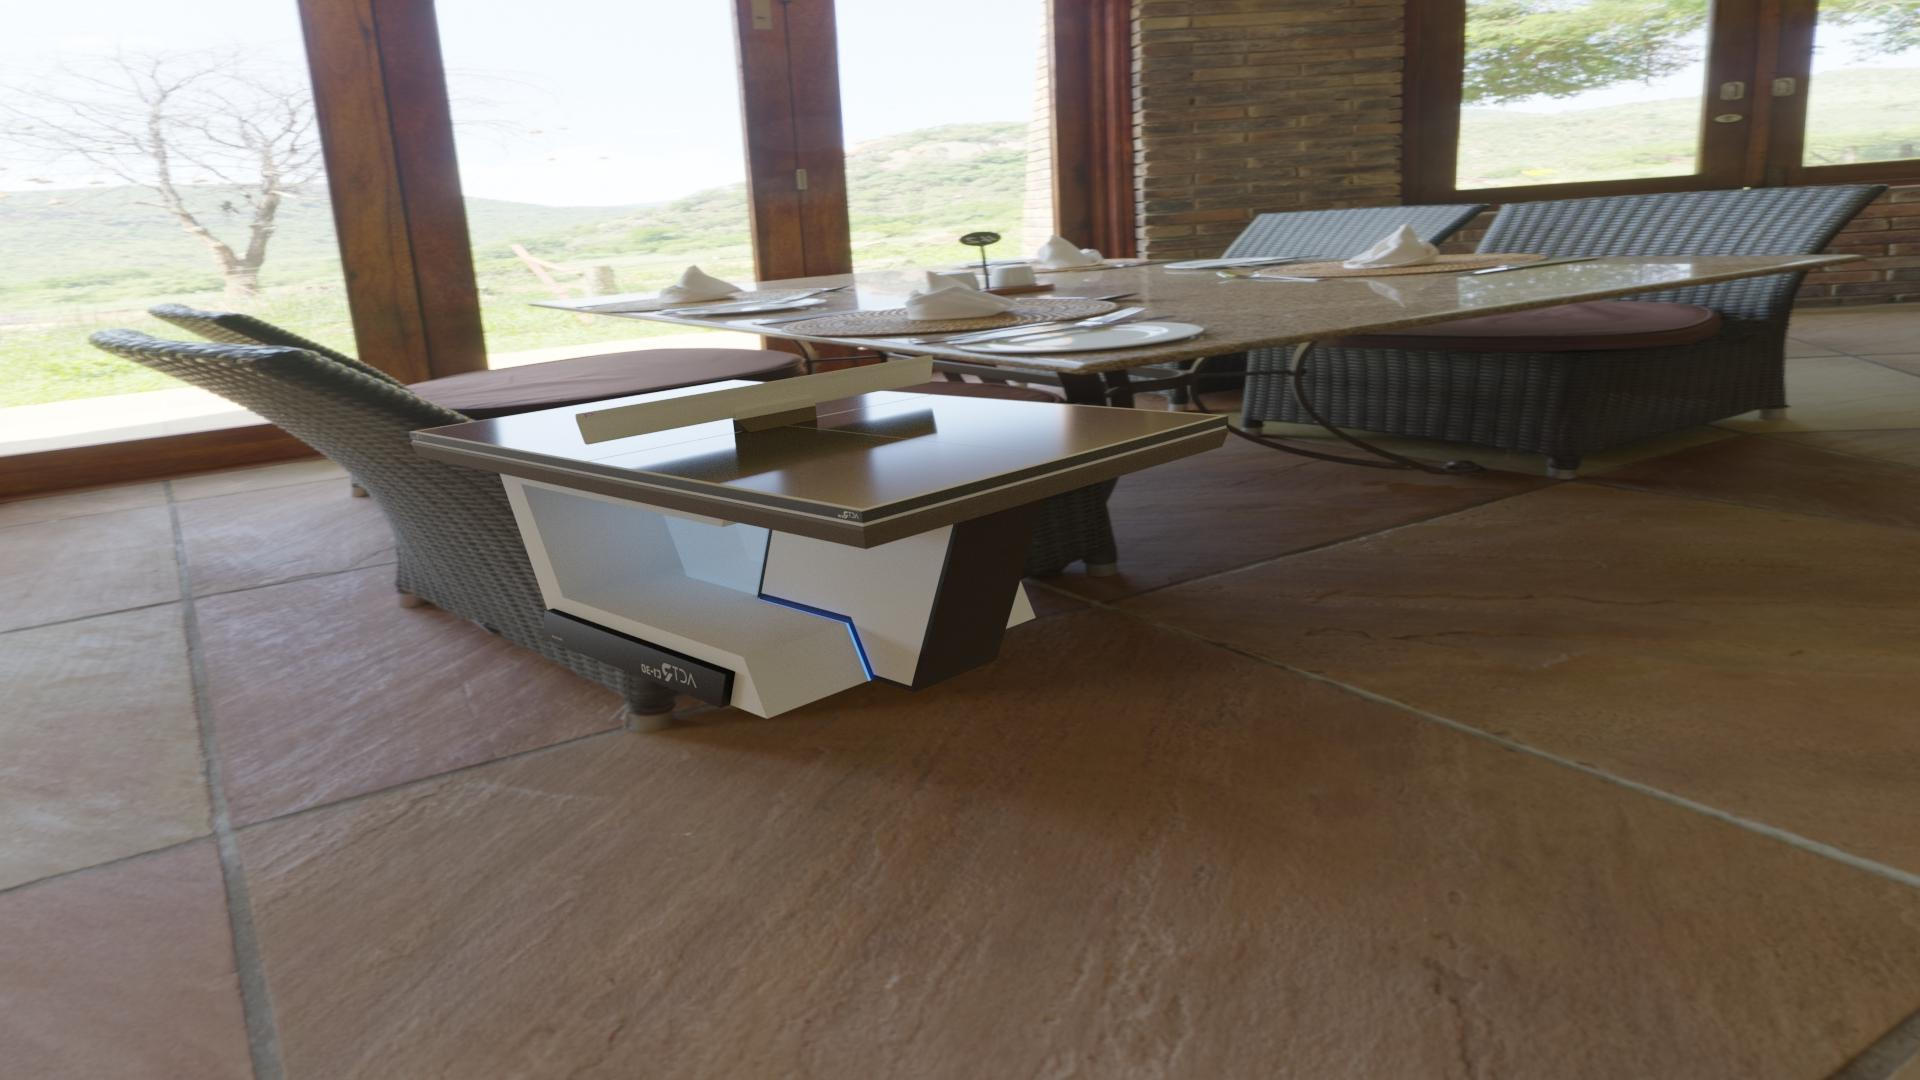table: (417, 381, 1220, 509)
